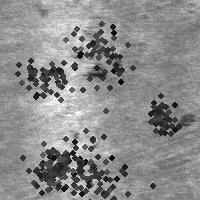rolled-in_scale: (38, 0, 152, 110), (25, 114, 129, 200), (46, 131, 148, 200), (11, 43, 75, 107), (19, 138, 79, 198), (69, 25, 125, 80), (133, 92, 183, 142)
